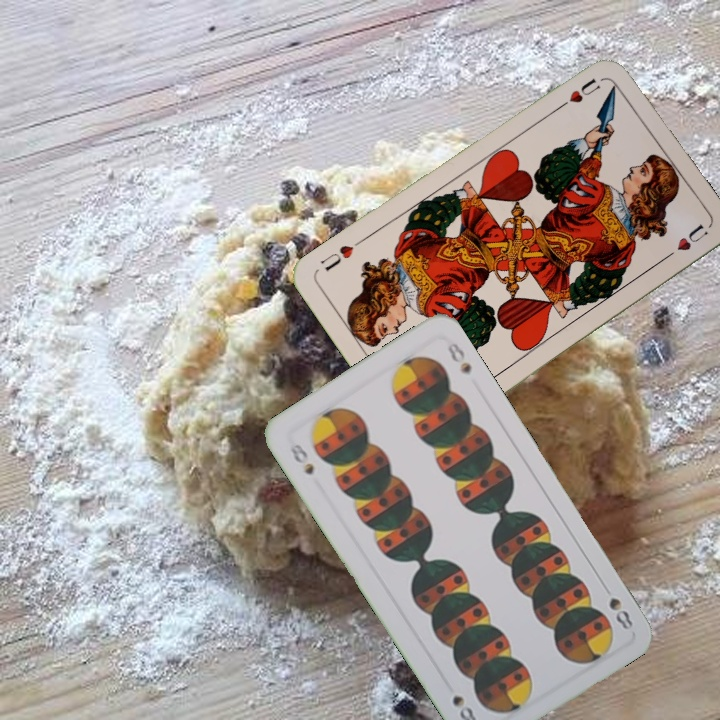HU: (564, 74, 604, 106)
S8: (605, 593, 636, 633), (285, 440, 317, 478)
